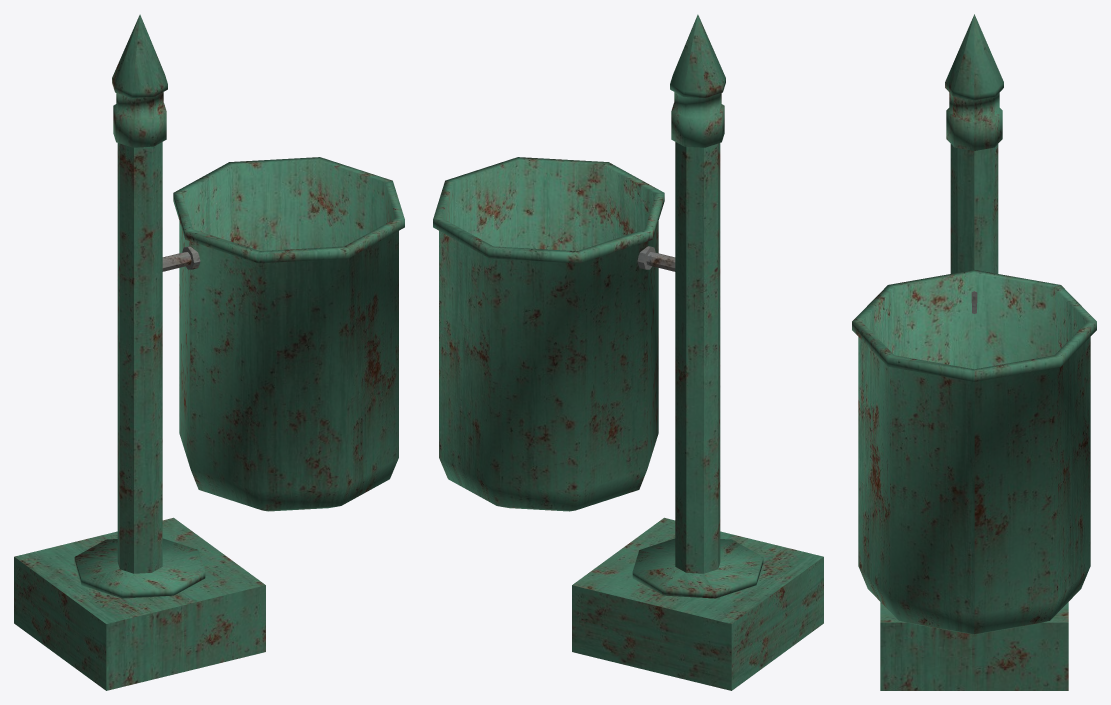
File: urn_post_green_lod2_web.glb
3 views of the same model, side by side, from view 1: azimuth 30°, elevation 25°; view 2: azimuth 150°, elevation 25°; view 3: azimuth 270°, elevation 25° (orthographic). The views are drawn at different scales.
Parts seen in each view (by area): view 1: Urn_BinMesh, UrnPost_green_Mesh; view 2: Urn_BinMesh, UrnPost_green_Mesh; view 3: Urn_BinMesh, UrnPost_green_Mesh.
Part boxes in pixels (x1,y1,x2,y2): Urn_BinMesh: [173, 157, 404, 511]; UrnPost_green_Mesh: [14, 14, 265, 690]; Urn_BinMesh: [433, 157, 664, 511]; UrnPost_green_Mesh: [572, 14, 823, 690]; Urn_BinMesh: [852, 270, 1096, 634]; UrnPost_green_Mesh: [880, 14, 1068, 690].
Bounding box in the file's own units: 0.625 × 1.12 × 0.39.
Materials: 2 (2 with a texture image).
